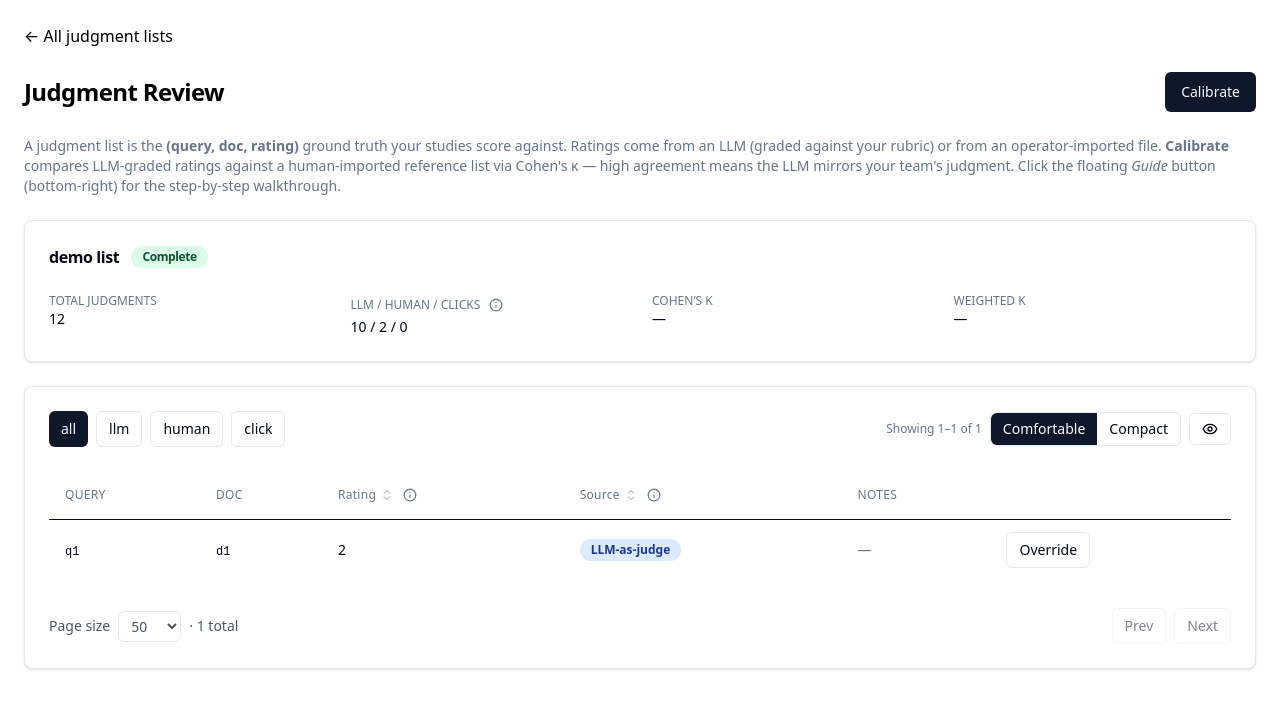
Judgment list page › clicking a source filter chip refetches with ?source=human
Check: the row with test id "judgment-row-j-llm-1" is shown, box x1=49 y1=520 x2=1231 y2=580
Step 1. Click the button with test id "filter-chip-source-human" → click(187, 429), box x1=150 y1=411 x2=223 y2=447
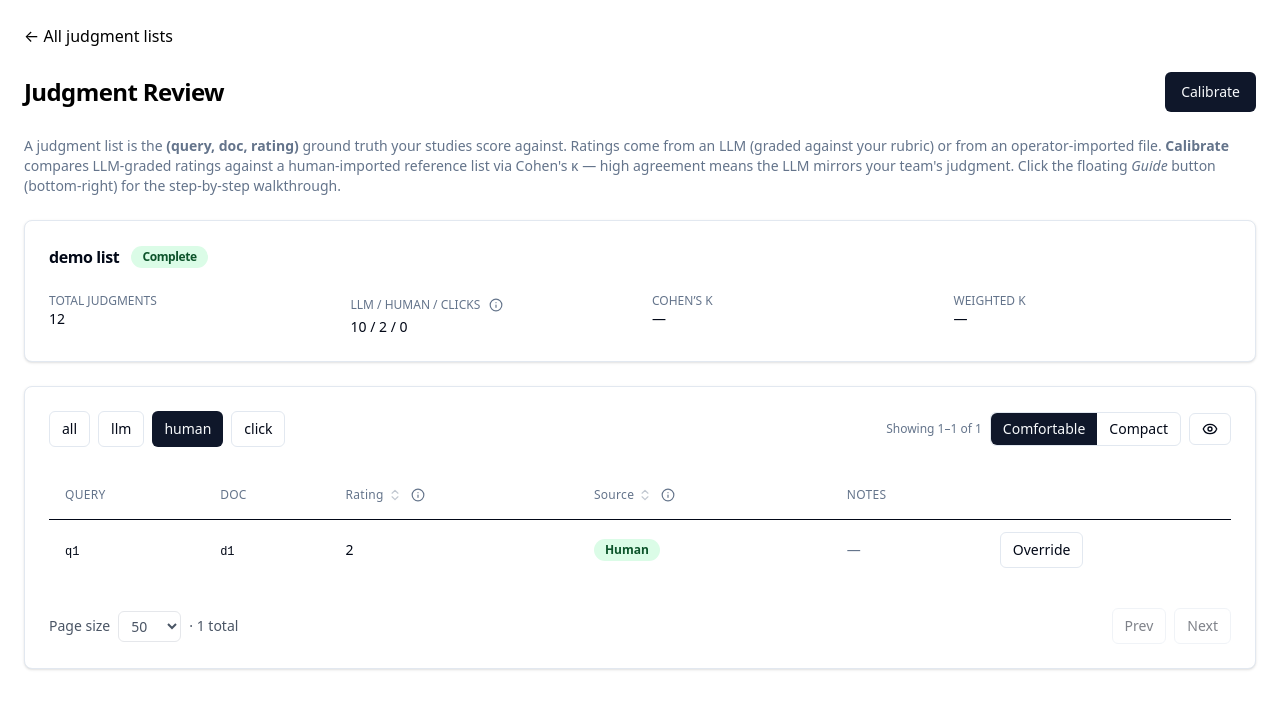
Check: the row with test id "judgment-row-j-human-1" is shown, box x1=49 y1=520 x2=1231 y2=580
